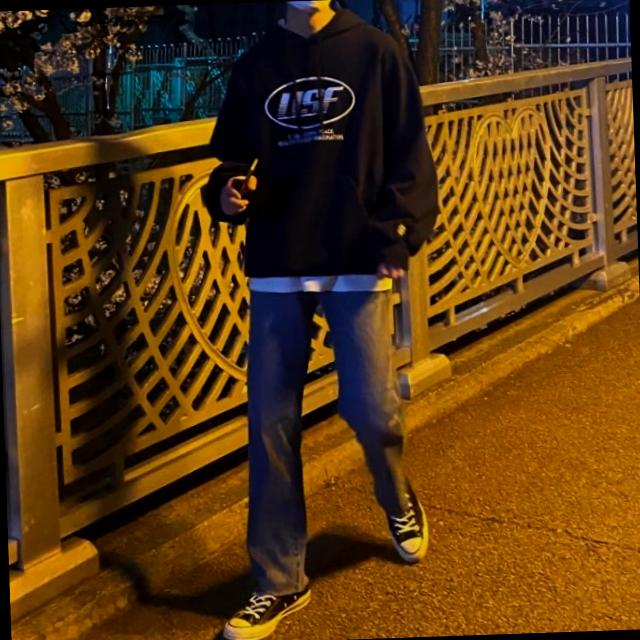denimpants: (236, 279, 429, 596)
hoodies: (204, 4, 446, 281)
